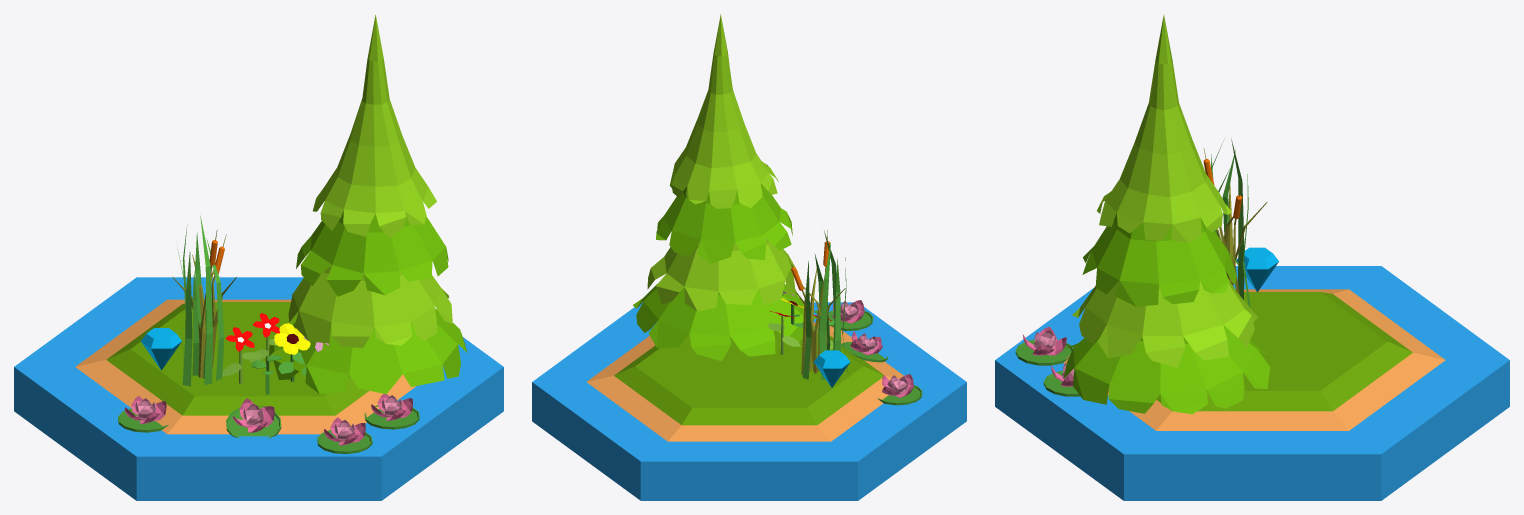
File: landscape3.glb
The picture shows the model from 3 angles, left to right: view 1: azimuth 30°, elevation 25°; view 2: azimuth 150°, elevation 25°; view 3: azimuth 270°, elevation 25°; orthographic projection. The views are drawn at different scales.
Visible parts, largest first — view 1: ziran.822, ziran.837, ziran.845, ziran.835, ziran.836, ziran.830, ziran.846, ziran.847, ziran.911, ziran.843, ziran.844, ziran.833; view 2: ziran.822, ziran.837, ziran.845, ziran.830, ziran.847, ziran.836, ziran.835, ziran.911; view 3: ziran.822, ziran.837, ziran.836, ziran.845, ziran.830, ziran.911, ziran.846.
Boxes of the visible parts, x1,y1,x2,y2 form: ziran.822: [14, 277, 503, 500]; ziran.837: [265, 15, 467, 394]; ziran.845: [177, 215, 224, 386]; ziran.835: [226, 398, 281, 438]; ziran.836: [317, 417, 372, 453]; ziran.830: [172, 229, 236, 377]; ziran.846: [364, 394, 419, 429]; ziran.847: [118, 395, 168, 432]; ziran.911: [141, 328, 181, 370]; ziran.843: [274, 323, 310, 381]; ziran.844: [222, 327, 263, 383]; ziran.833: [249, 313, 280, 369]; ziran.822: [532, 302, 966, 500]; ziran.837: [633, 14, 816, 361]; ziran.845: [802, 230, 848, 380]; ziran.830: [788, 230, 845, 374]; ziran.847: [877, 374, 922, 405]; ziran.836: [828, 300, 873, 330]; ziran.835: [841, 331, 888, 362]; ziran.911: [814, 350, 850, 387]; ziran.822: [995, 266, 1509, 500]; ziran.837: [1063, 14, 1270, 414]; ziran.836: [1015, 326, 1072, 365]; ziran.845: [1211, 139, 1250, 307]; ziran.830: [1203, 148, 1267, 294]; ziran.911: [1236, 247, 1278, 292]; ziran.846: [1043, 363, 1080, 396].
Size of the model in its own units: 4.33 by 4.62 by 5.
Materials: 1 (1 with a texture image).
